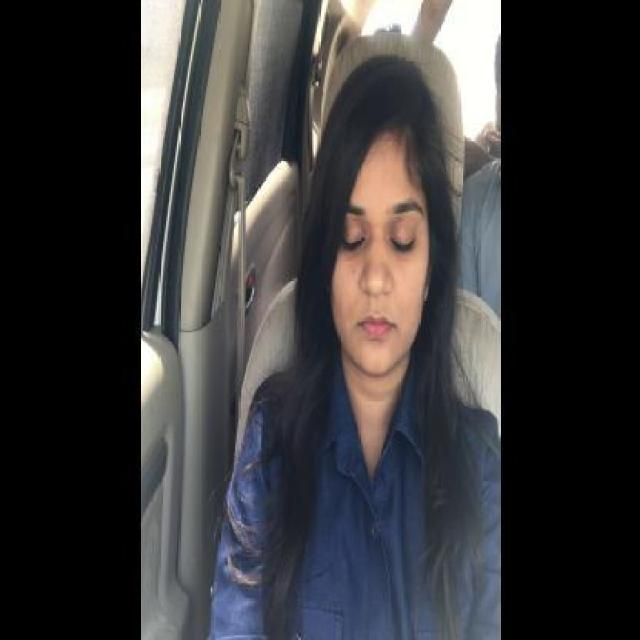sleepy: (314, 190, 447, 378)
